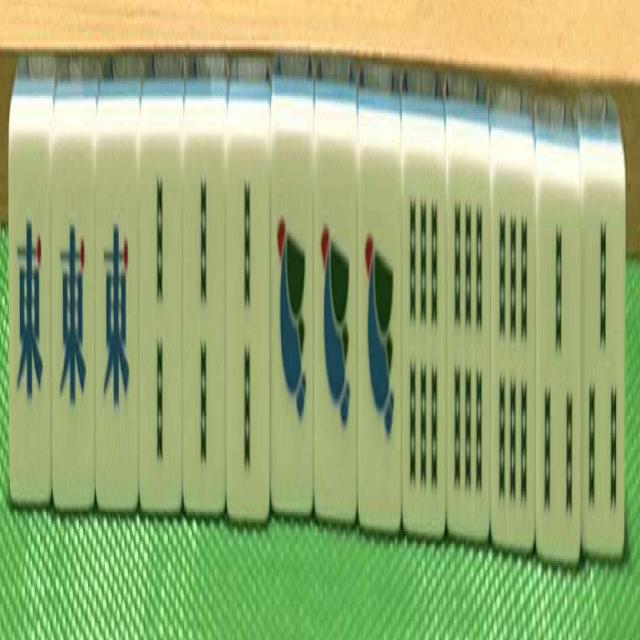east: (96, 157, 136, 479), (10, 157, 46, 486), (54, 160, 89, 486)
s1: (359, 174, 403, 532), (274, 153, 314, 501), (317, 146, 355, 506)
s2: (139, 139, 179, 506), (184, 160, 222, 501), (228, 149, 264, 502)
s3: (582, 185, 623, 538), (540, 192, 578, 515)
s6: (494, 180, 536, 537), (405, 164, 444, 514), (448, 182, 488, 520)
